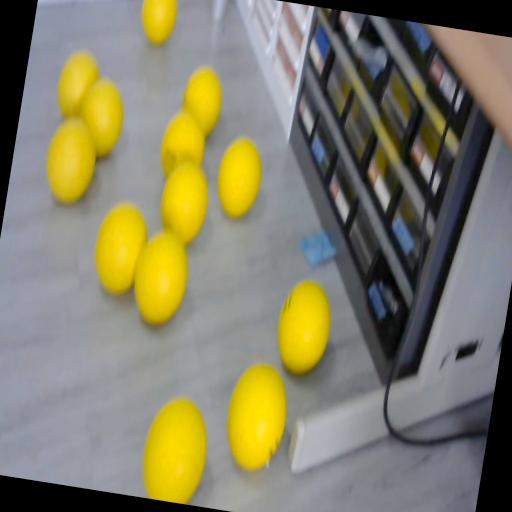FUEL: (135, 390, 215, 504), (217, 356, 294, 474), (126, 224, 196, 329), (270, 276, 336, 377), (87, 197, 152, 297), (39, 114, 102, 208), (152, 156, 214, 246), (210, 133, 266, 221), (52, 47, 103, 122), (178, 63, 228, 136), (136, 0, 181, 46)
